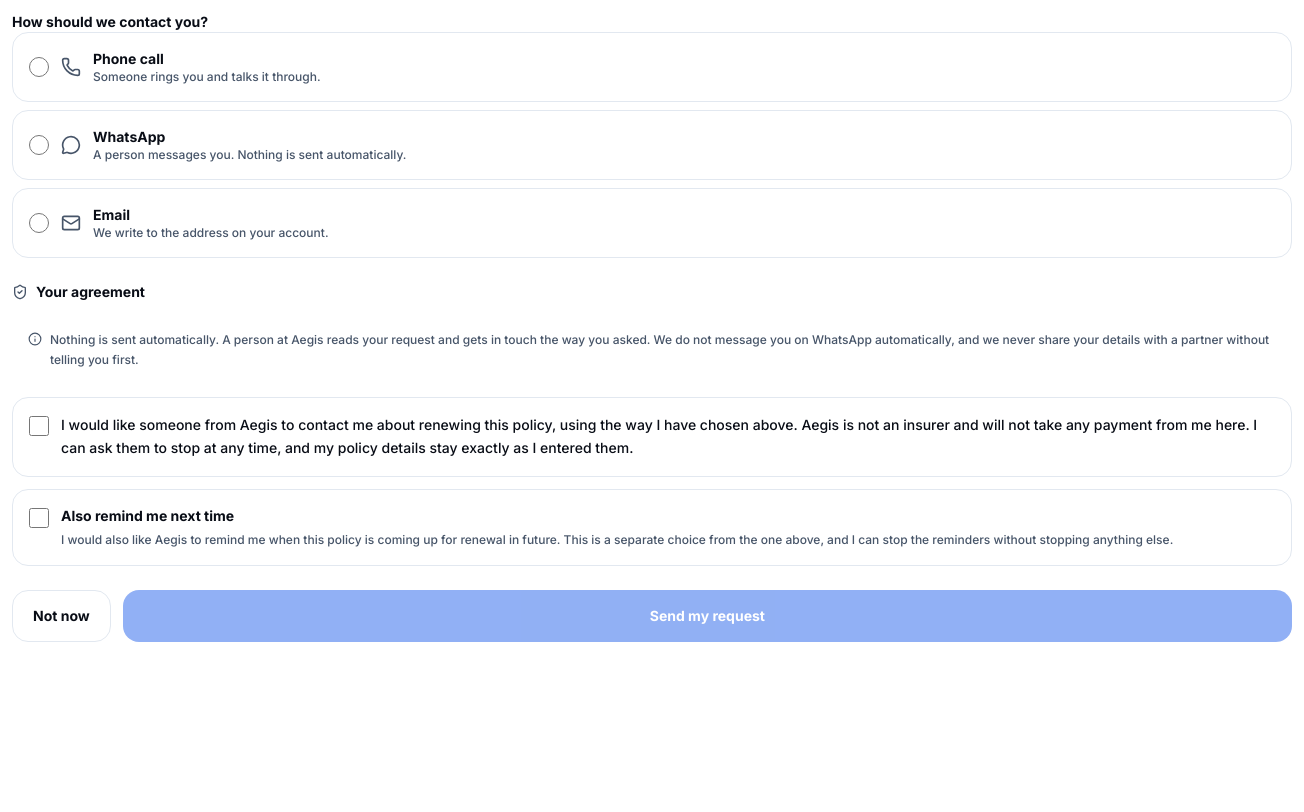
Test: the agreement is an action, not a default › cannot be sent until it has been ticked
Click the label with test id "channel-EMAIL". click: click(112, 214)
box: [12,188,1292,258]
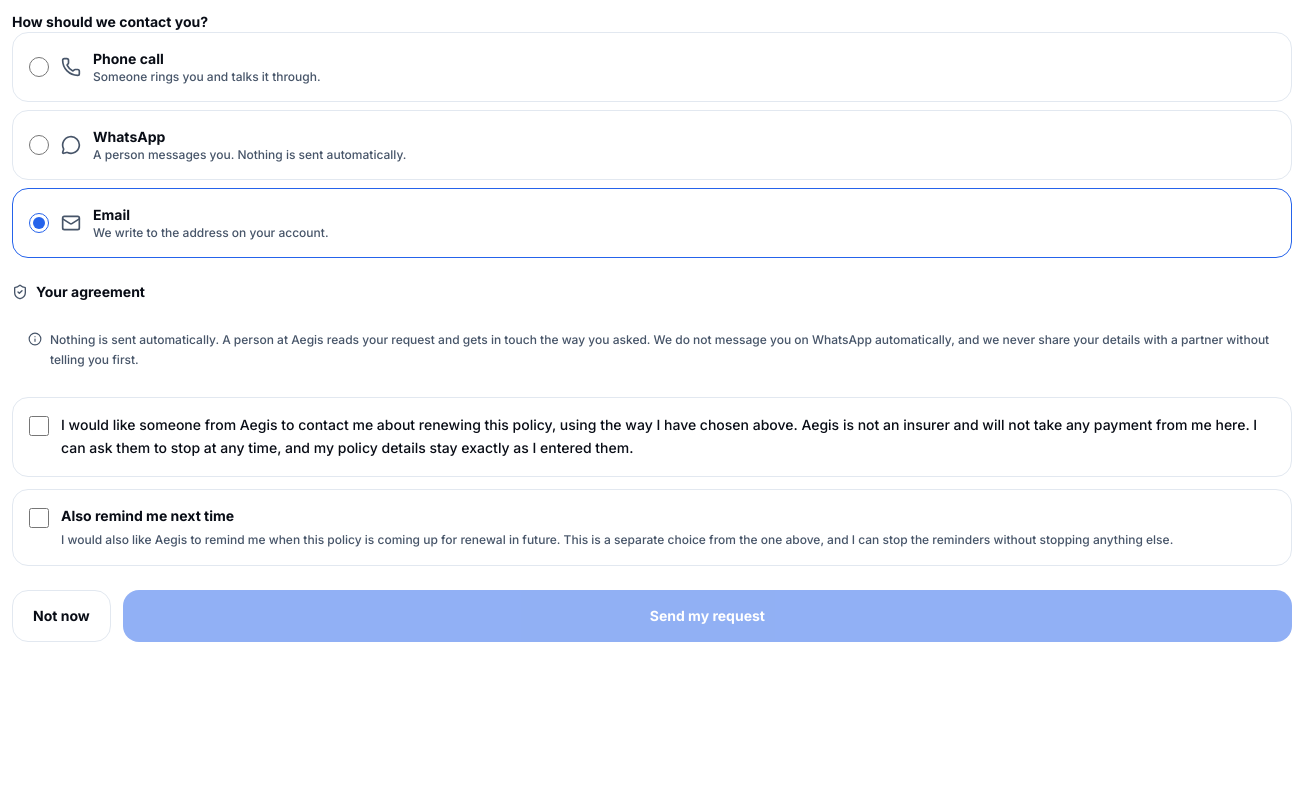
Expected: the button with test id "consent-submit" is disabled, [123,590,1292,642]
Click the 1st checkbox. click: click(39, 426)
box: [29,416,49,436]
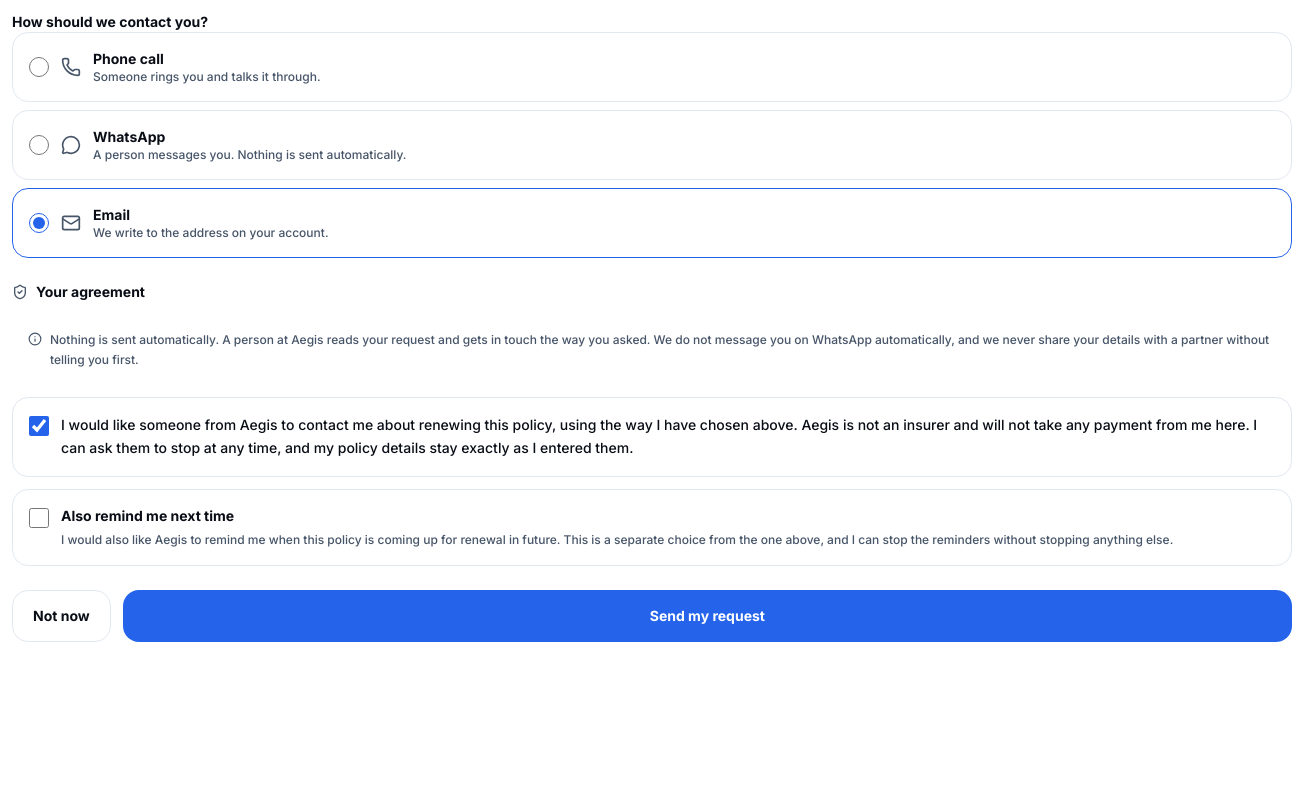
Expected: the button with test id "consent-submit" is enabled, [123,590,1292,642]
